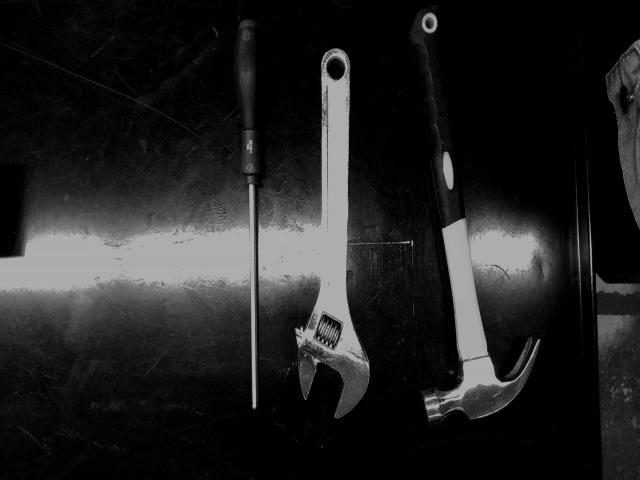Adjustable spanner: (295, 48, 370, 418), (234, 18, 266, 409)
Hammer: (409, 5, 540, 424)
